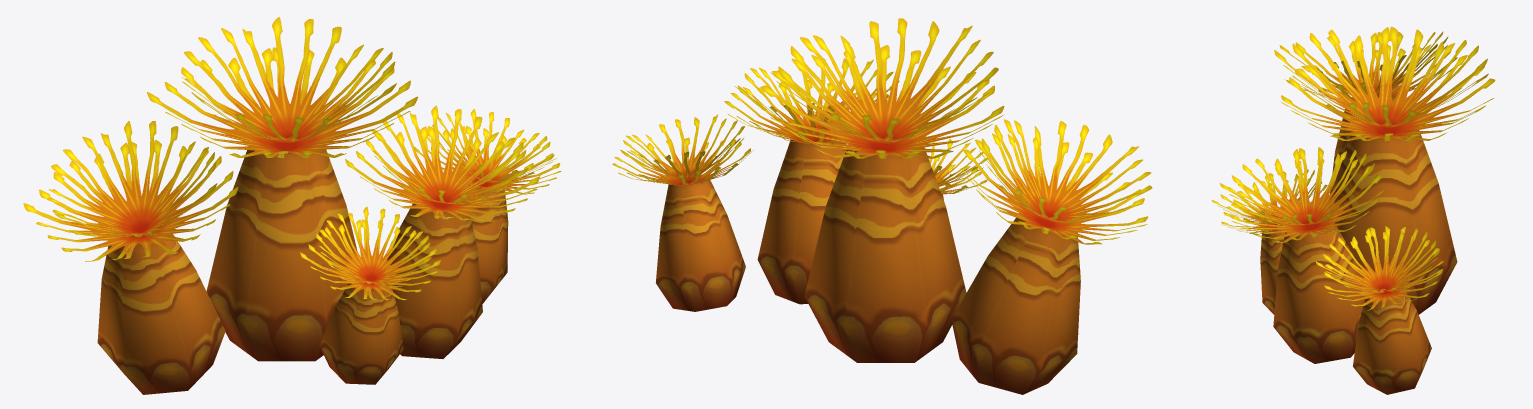
File: Coral_33_Group.FBX
The picture shows the model from 3 angles, left to right: view 1: azimuth 30°, elevation 25°; view 2: azimuth 150°, elevation 25°; view 3: azimuth 270°, elevation 25°; orthographic projection. The views are drawn at different scales.
Parts seen in each view (by area): view 1: Coral_33_Group; view 2: Coral_33_Group; view 3: Coral_33_Group.
Part boxes in pixels (x1,y1,x2,y2): Coral_33_Group: (23,17,561,394); Coral_33_Group: (612,18,1152,394); Coral_33_Group: (1211,26,1495,394).
Size of the model in its own units: 119 by 61.48 by 69.46.
